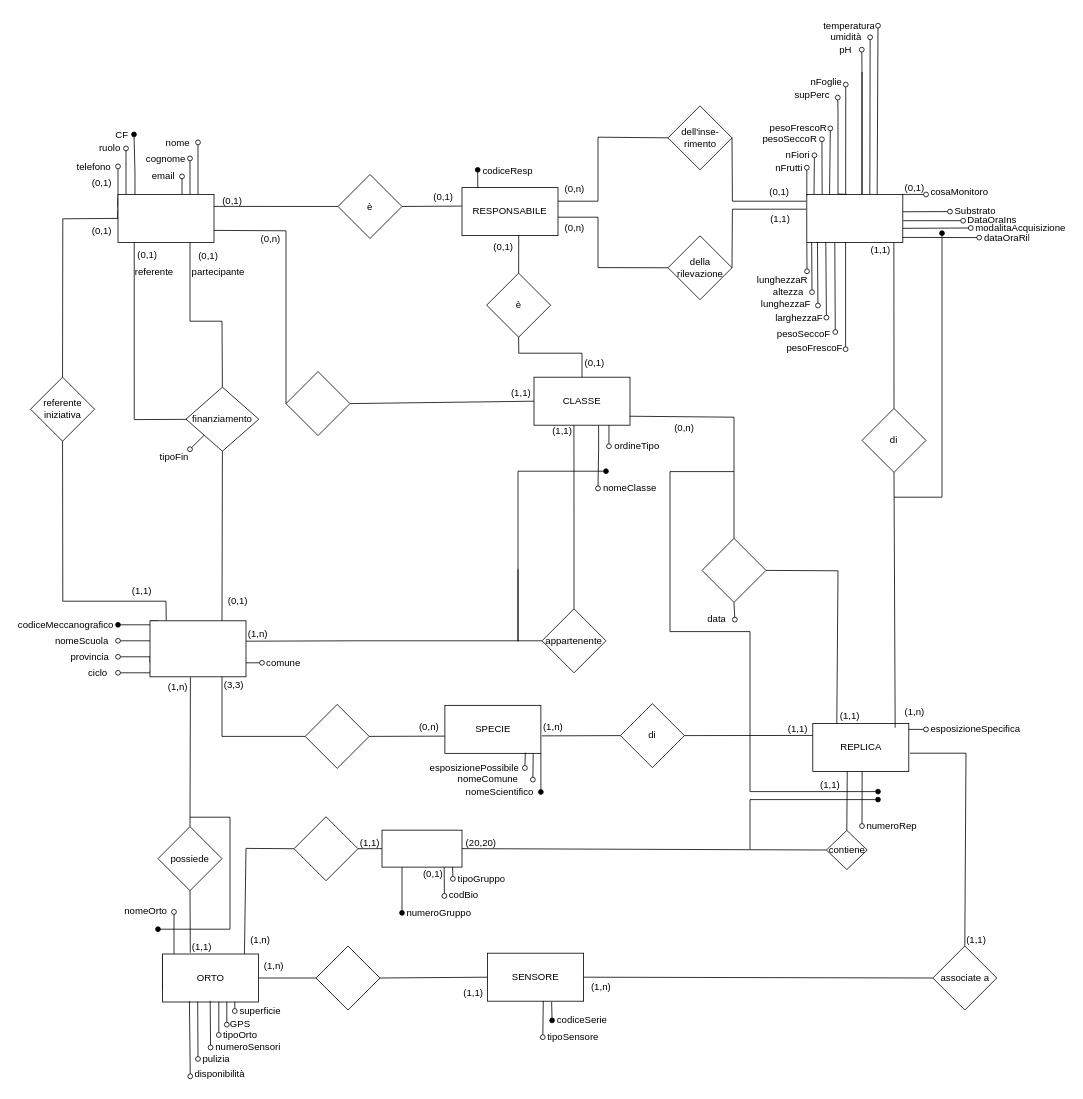
This 1083x1099 diagram has some shape labels left out. Each missing label, with the centre of its shape:
docente di riferimento: the point at 317,403
GRUPPO: the point at 421,848
ha: the point at 325,848
in: the point at 347,977
mette a dimora: the point at 733,570
PERSONA: the point at 165,218
RILEVAZIONE: the point at 854,218
SCUOLA: the point at 197,648
si occupa di: the point at 336,736
